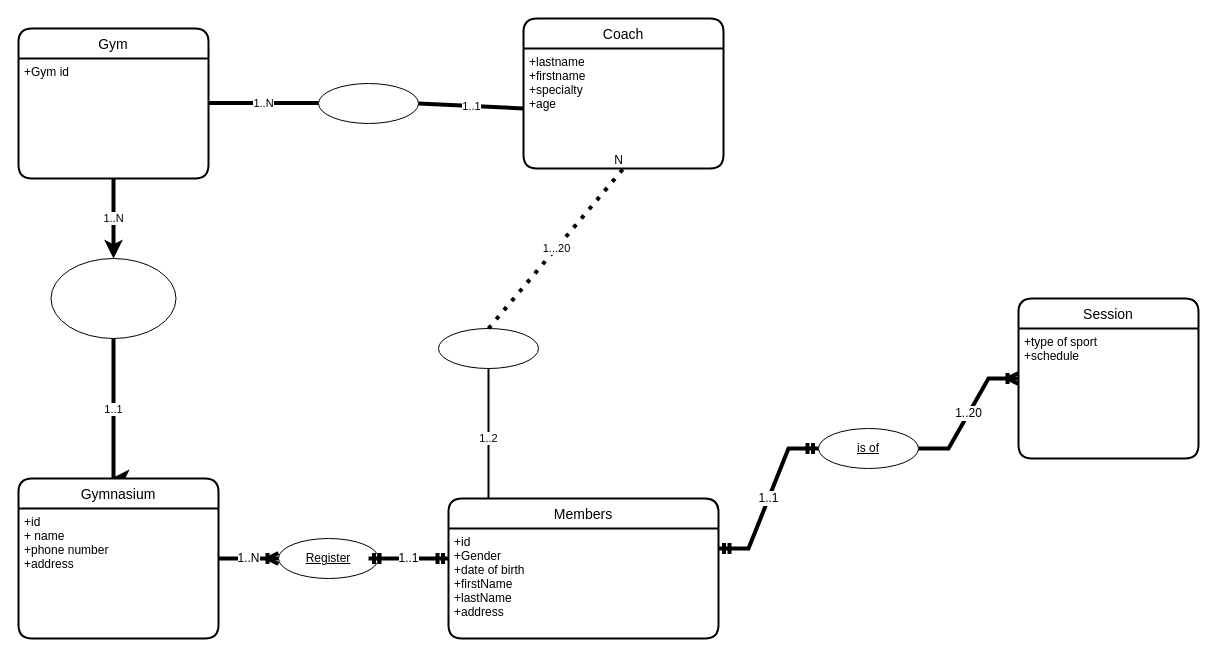
This 1216x656 diagram has some shape labels left out. The centre of each missing label's shape, as x and y in pixels:
"composed of" goes at (113,298).
"train" goes at (488,348).
"Works" goes at (368,103).
